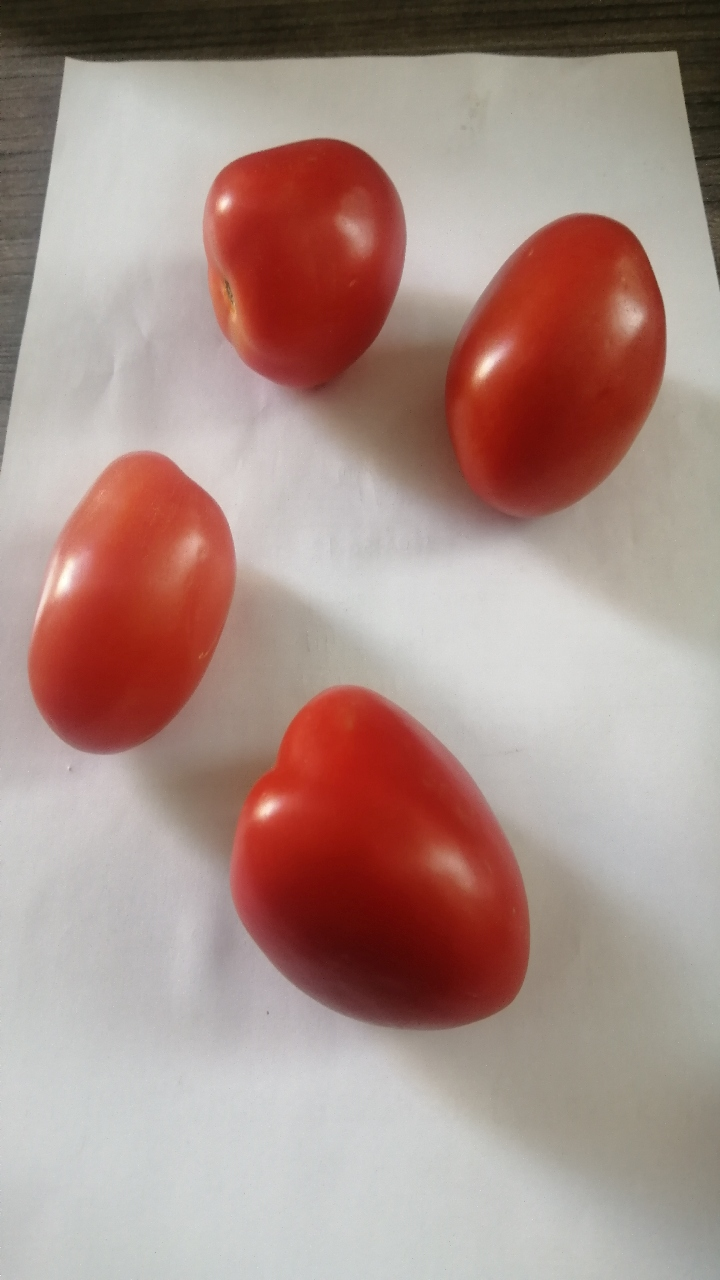tomateRojo: (229, 679, 537, 1043), (420, 195, 694, 532), (12, 437, 240, 772), (168, 122, 412, 402)
